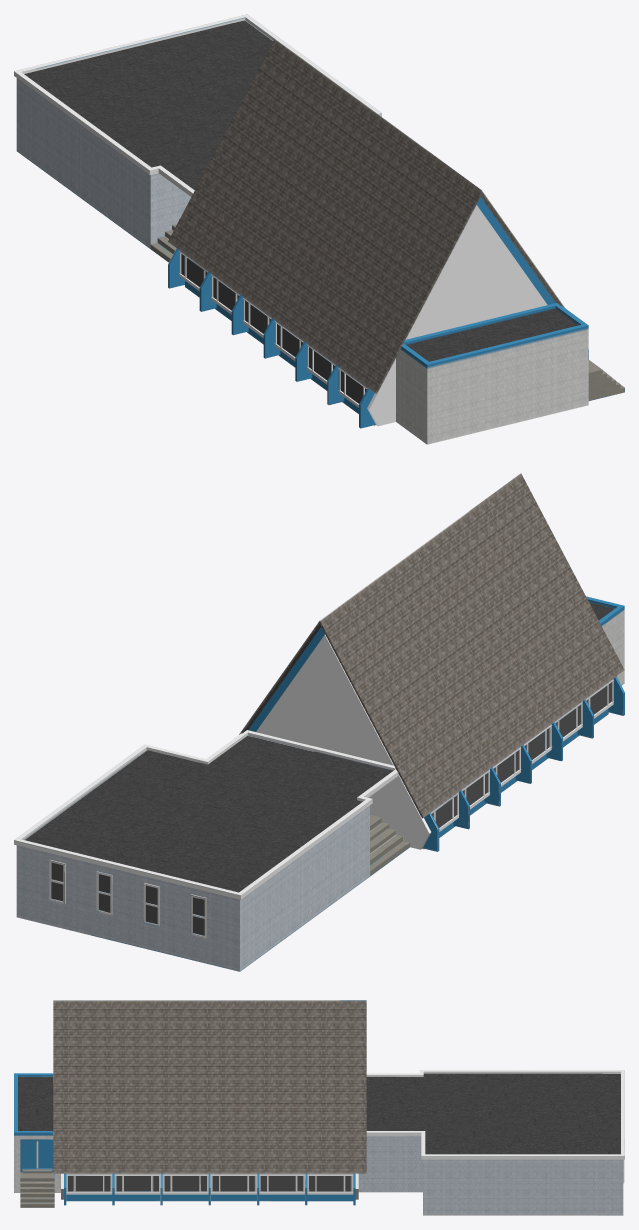
File: Blaisdale Montessori School.fbx
3 views of the same model, one above another, from view 1: azimuth 30°, elevation 25°; view 2: azimuth 150°, elevation 25°; view 3: azimuth 270°, elevation 25° (orthographic). The views are drawn at different scales.
Visible parts, largest first — view 1: Blaisdale_Montessori_School_LOD0; view 2: Blaisdale_Montessori_School_LOD0; view 3: Blaisdale_Montessori_School_LOD0.
Boxes of the visible parts, <box> form: Blaisdale_Montessori_School_LOD0: <box>14,14,624,444</box>; Blaisdale_Montessori_School_LOD0: <box>14,473,624,971</box>; Blaisdale_Montessori_School_LOD0: <box>14,1000,624,1215</box>.
Size of what is drawn, in the model's own units: 1436 by 1159 by 3900.
Materials: 1 (1 with a texture image).
